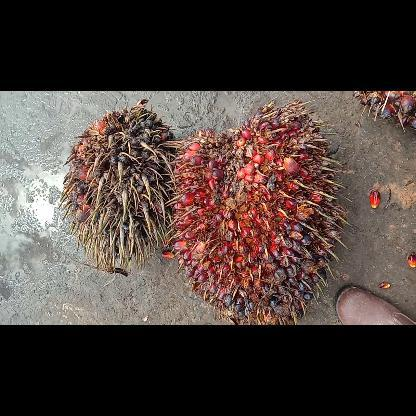TBS abnormal: (58, 96, 174, 268)
TBS masak: (163, 98, 343, 324)
